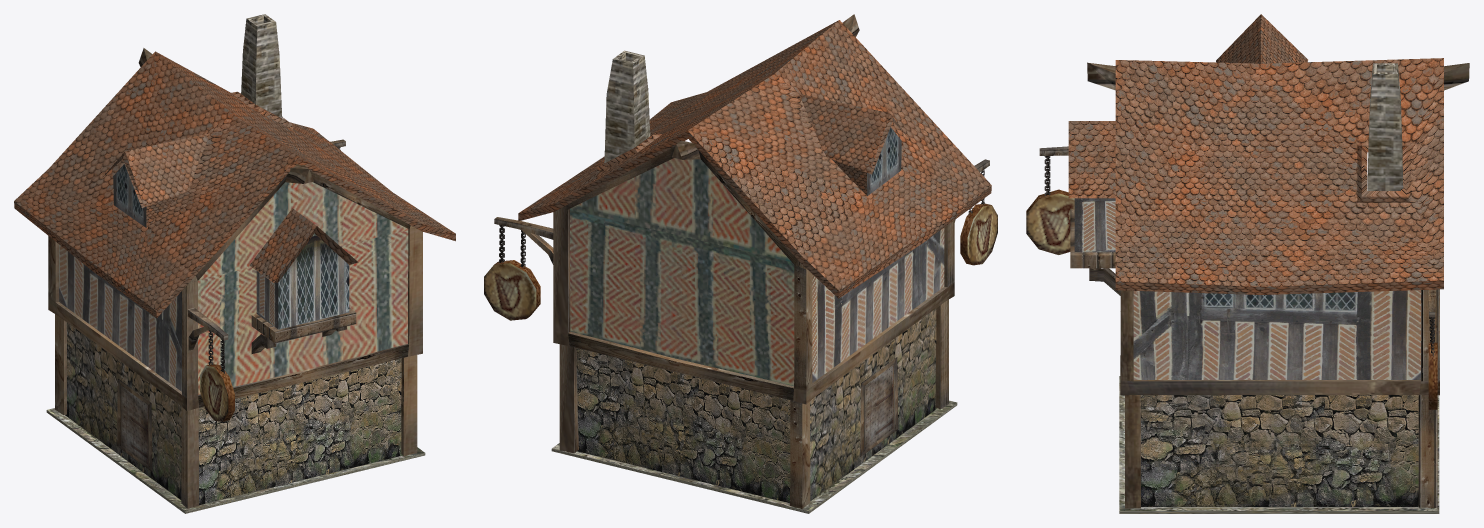
File: building_minstrels_guild.glb
3 views of the same model, side by side, from view 1: azimuth 30°, elevation 25°; view 2: azimuth 150°, elevation 25°; view 3: azimuth 270°, elevation 25° (orthographic). The views are drawn at different scales.
Visible parts, largest first — view 1: building_minstrels_guild; view 2: building_minstrels_guild; view 3: building_minstrels_guild.
Part boxes in pixels (<box>): building_minstrels_guild: <box>14,14,455,513</box>; building_minstrels_guild: <box>484,14,997,513</box>; building_minstrels_guild: <box>1026,14,1469,513</box>.
Bounding box in the file's own units: 8.53 × 8.85 × 8.5.
Materials: 9 (8 with a texture image).
